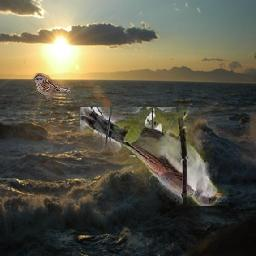Cuckoo: (81, 108, 230, 207)
Sparrow: (33, 73, 72, 103)
